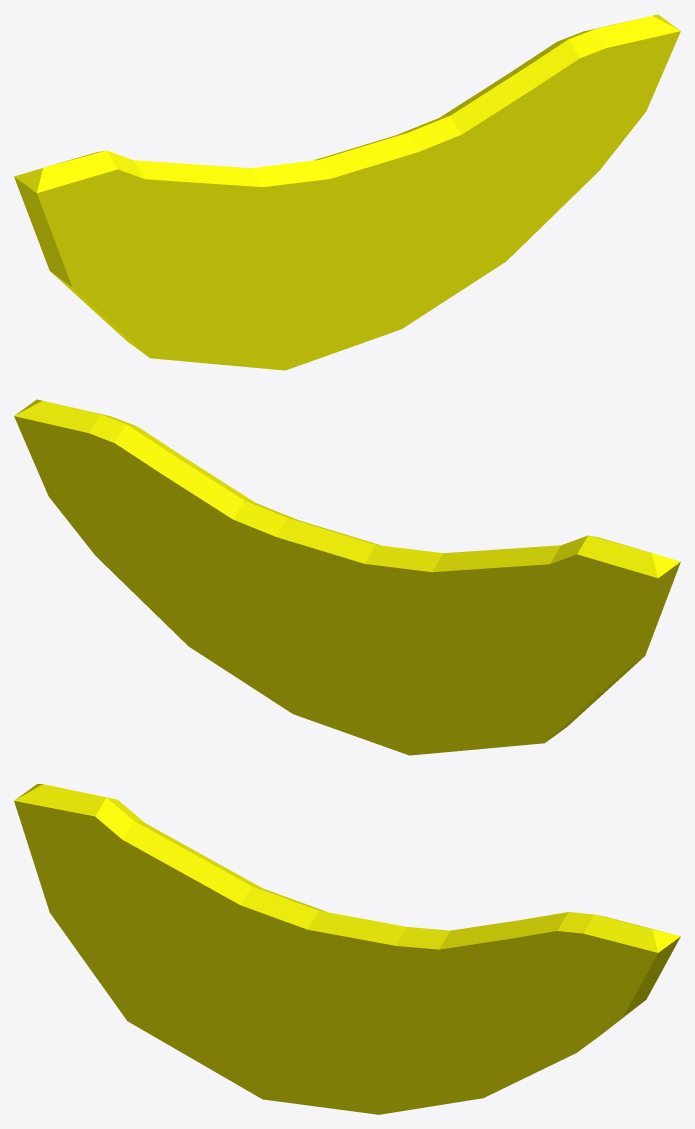
Rendered from mango03.gltf.
3 views of the same model, one above another, from view 1: azimuth 30°, elevation 25°; view 2: azimuth 150°, elevation 25°; view 3: azimuth 330°, elevation 25° (orthographic).
Visible parts, largest first — view 1: Cylinder; view 2: Cylinder; view 3: Cylinder.
Part boxes in pixels (box(x1,y1,x2,y2)): Cylinder: box(14, 14, 680, 370); Cylinder: box(14, 399, 680, 755); Cylinder: box(14, 784, 680, 1114).
Size of the model in its own units: 0.1116 by 0.0422 by 0.00684.
Materials: 1 (1 with a texture image).
